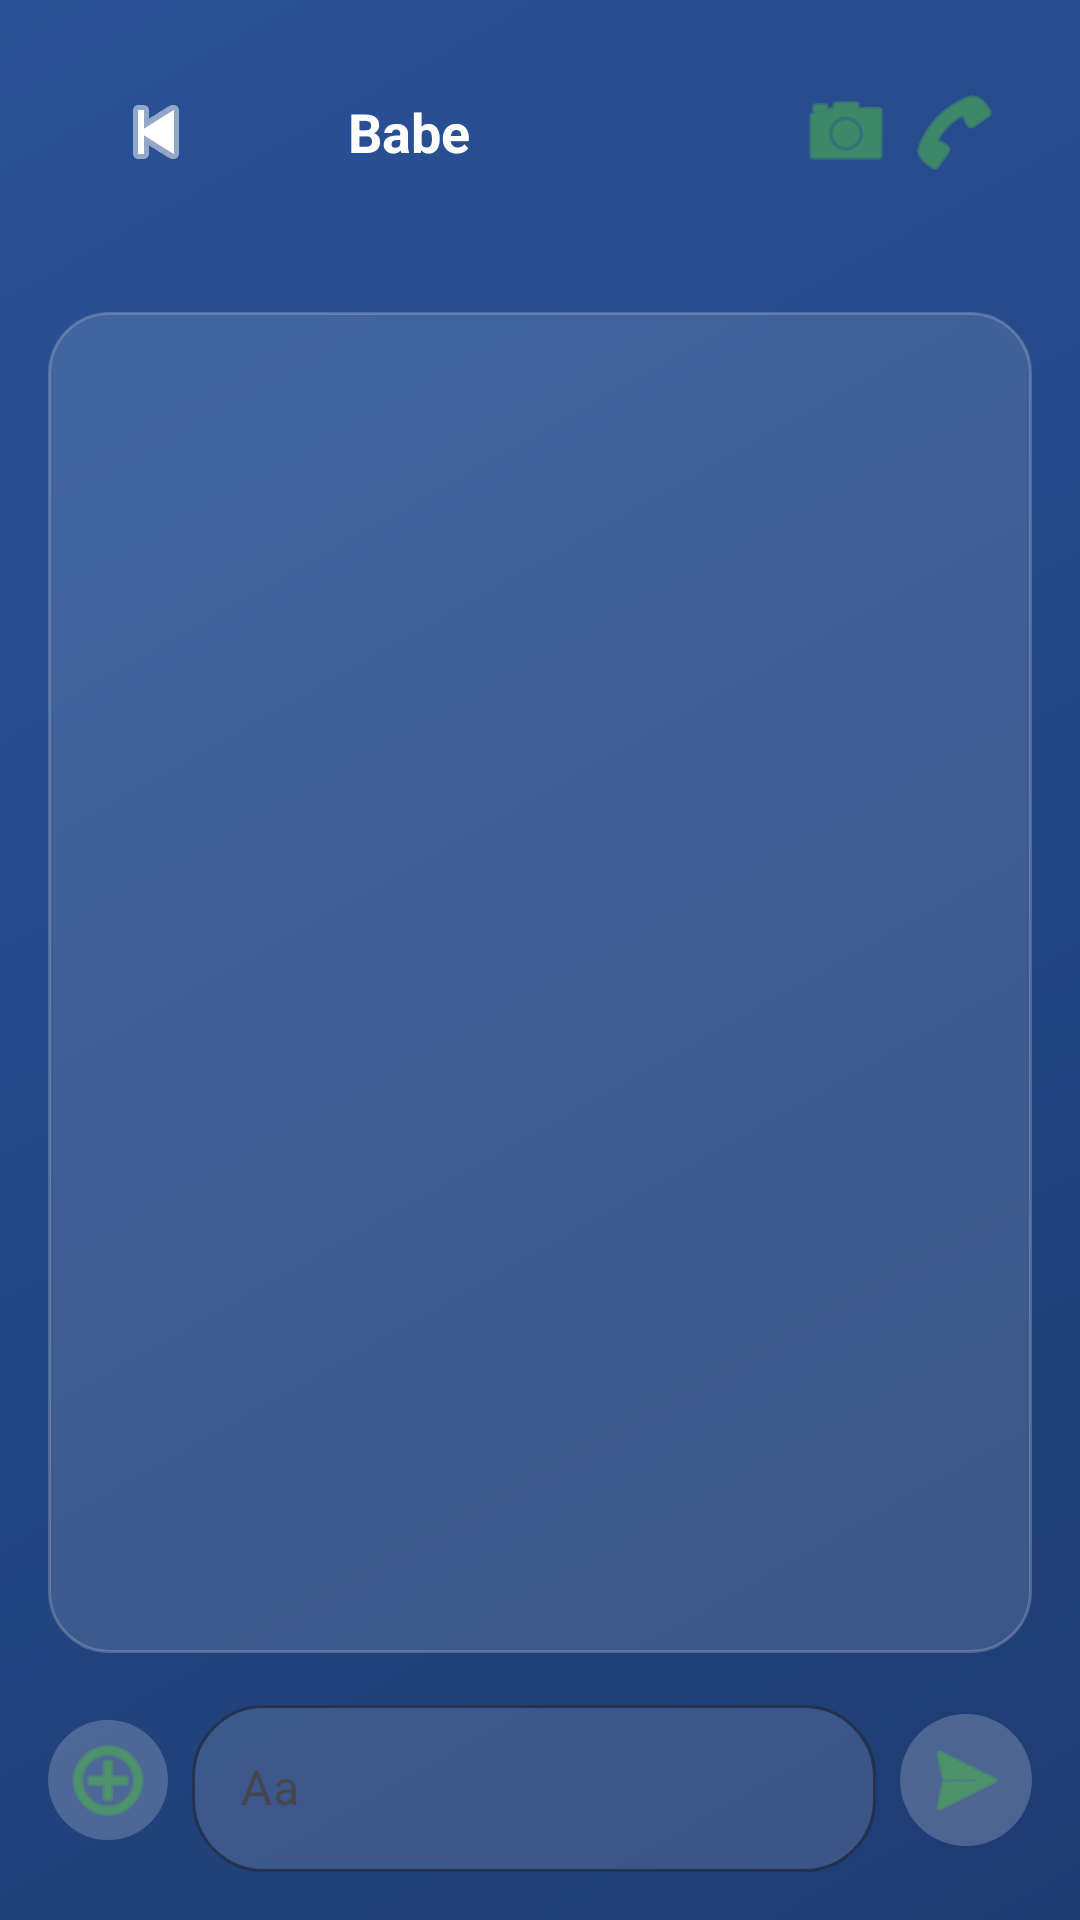

Screen size 1080w x 1920h. Icon name, then its box in pixels as bbox(x1, y1, x2, y2):
Attach: bbox(48, 1720, 168, 1840)
Call: bbox(917, 95, 992, 170)
Send: bbox(900, 1714, 1032, 1846)
Назад: bbox(133, 105, 179, 159)
